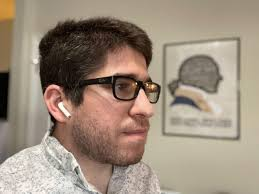earphone: (43, 84, 74, 122)
